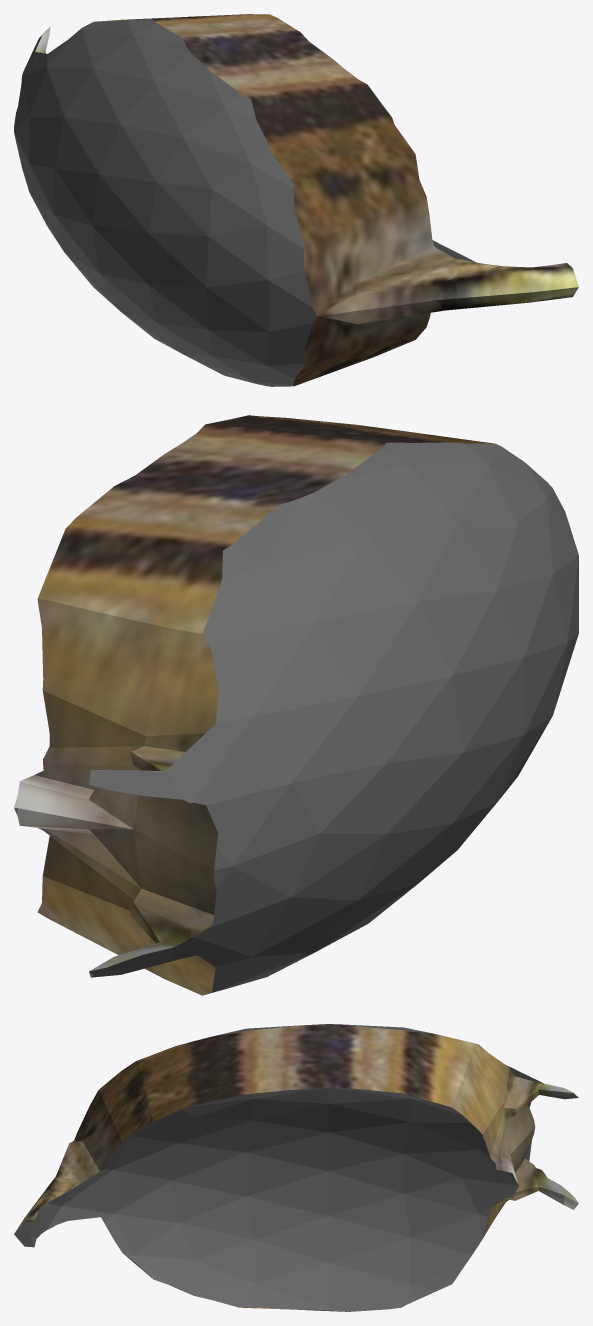
Rendered from link_7_composite.obj.
3 renders of one model, top to bottom at view 1: azimuth 30°, elevation 25°; view 2: azimuth 150°, elevation 25°; view 3: azimuth 270°, elevation 25°, orthographic. The views are drawn at different scales.
Size of the model in its own units: 0.00201 by 0.0019 by 0.00382.
Materials: 1 (1 with a texture image).
